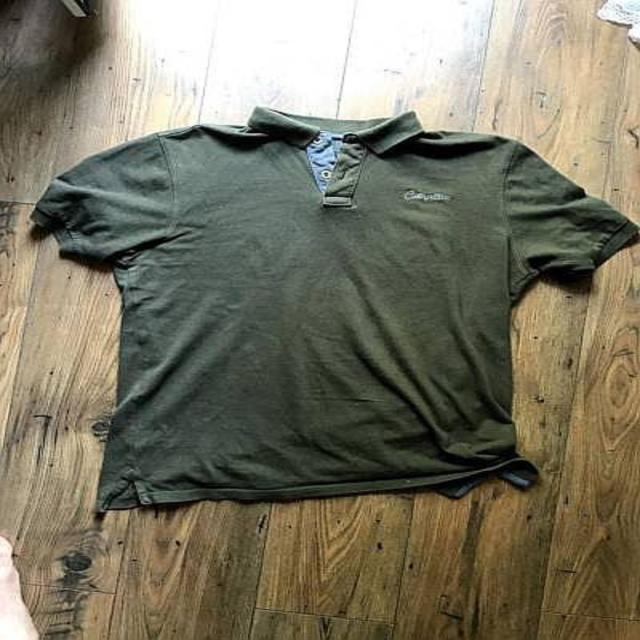T_SHIRT: (14, 106, 640, 517)
